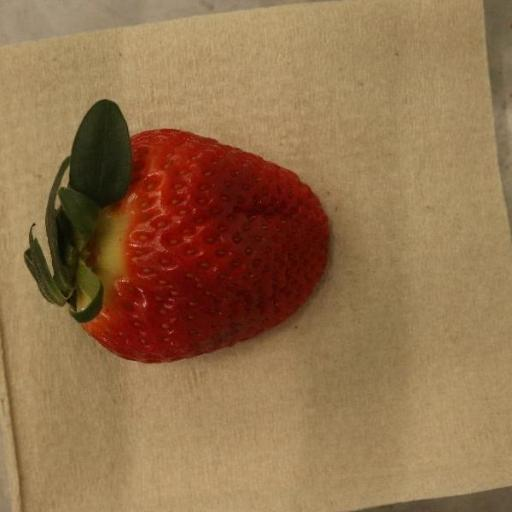Strawberry: (22, 100, 330, 365)
